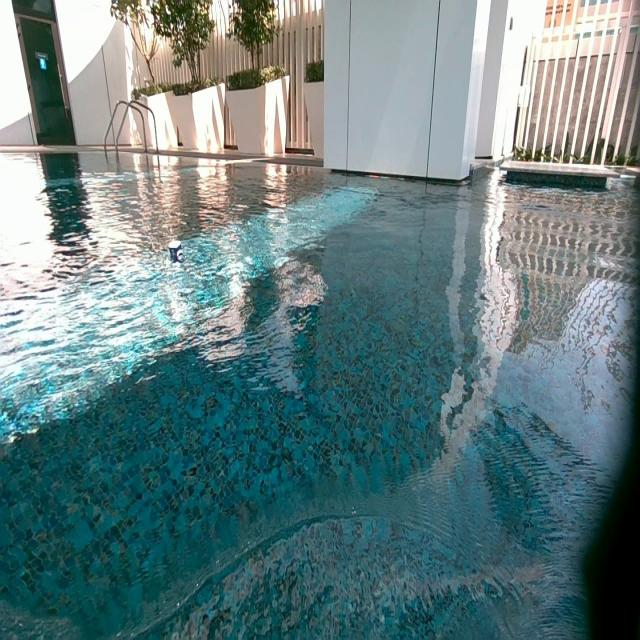Cans: (168, 238, 184, 262)
